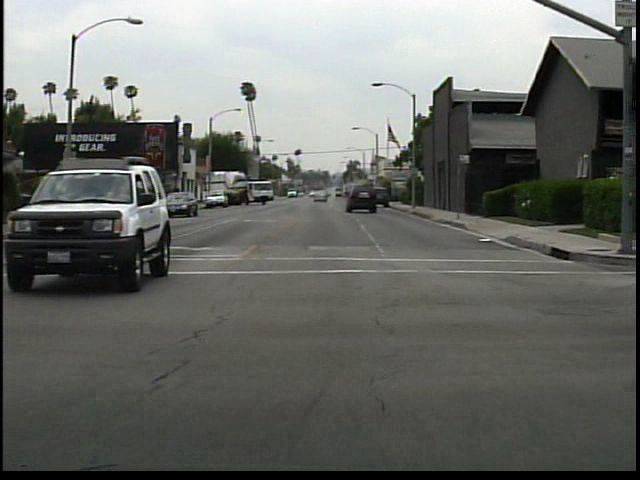person: (86, 182, 107, 220)
